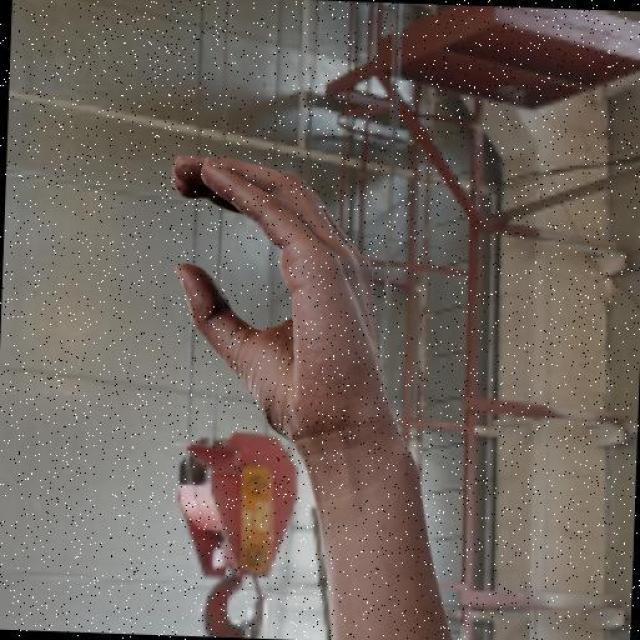C: (149, 125, 402, 460)
